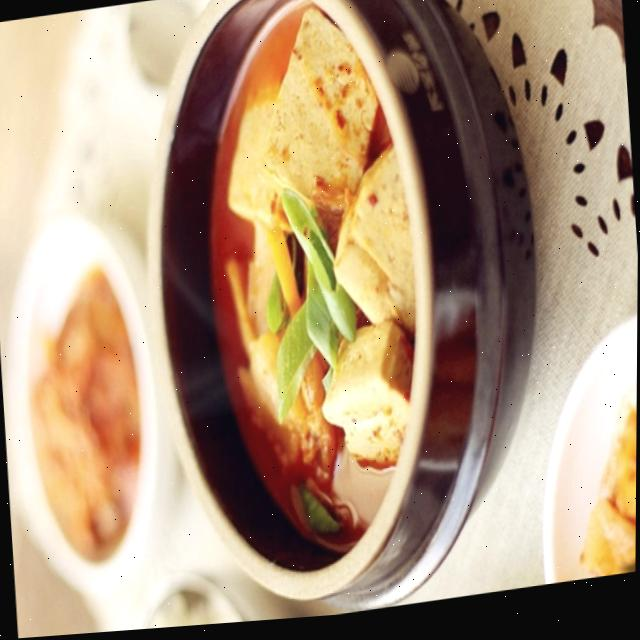汤锅炖物: (115, 0, 503, 617)
